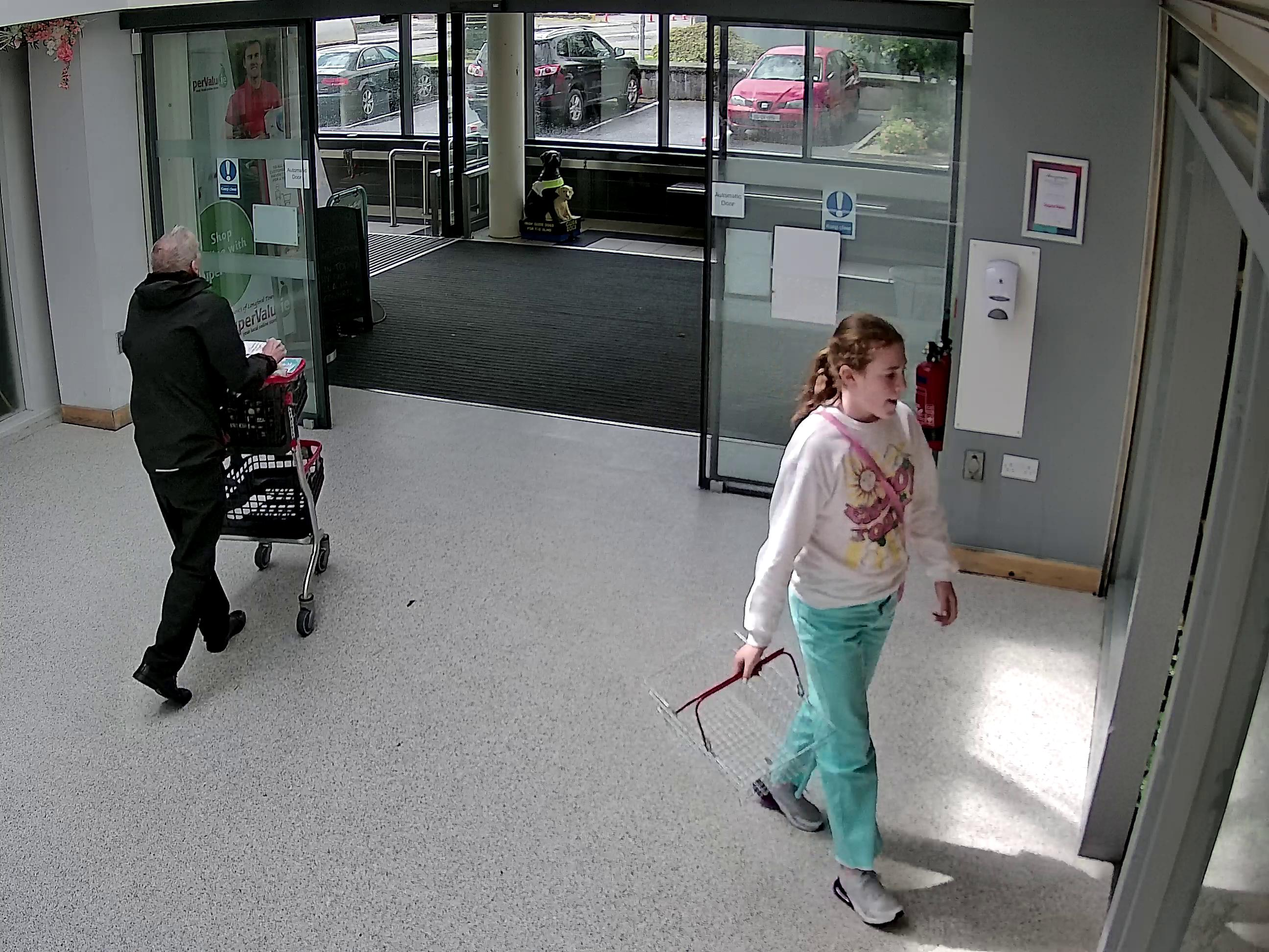empty-basket: (646, 618, 838, 806)
filled-trolly: (204, 340, 331, 638)
person: (735, 310, 957, 927), (123, 225, 289, 709)
person-with-empty-basket-trolly: (646, 309, 956, 925)
person-with-filled-basket-trolly: (125, 224, 330, 712)
